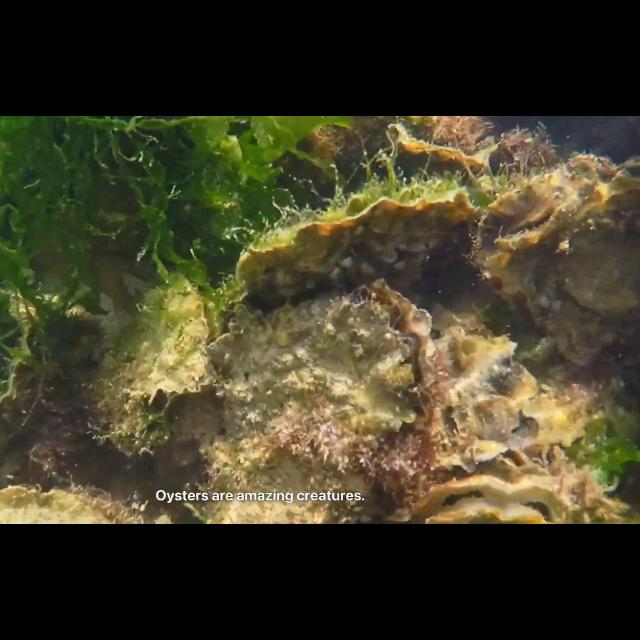Oyster-Closed: (233, 188, 483, 312), (0, 360, 100, 492)
Oyster-Open: (197, 278, 437, 524), (470, 153, 640, 369), (433, 326, 539, 474), (128, 279, 218, 413), (384, 475, 576, 525), (92, 344, 176, 458), (382, 122, 486, 186)
